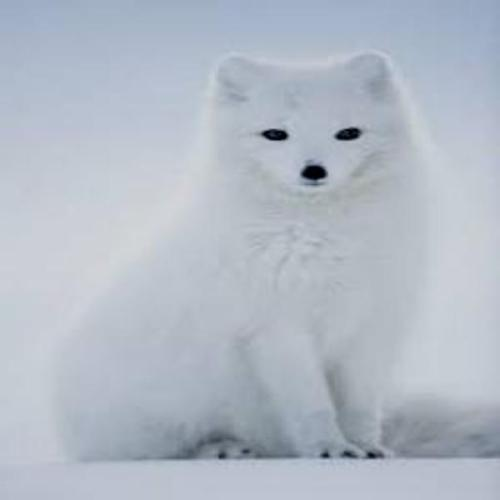arctic_fox-endangered: (62, 56, 419, 455)
